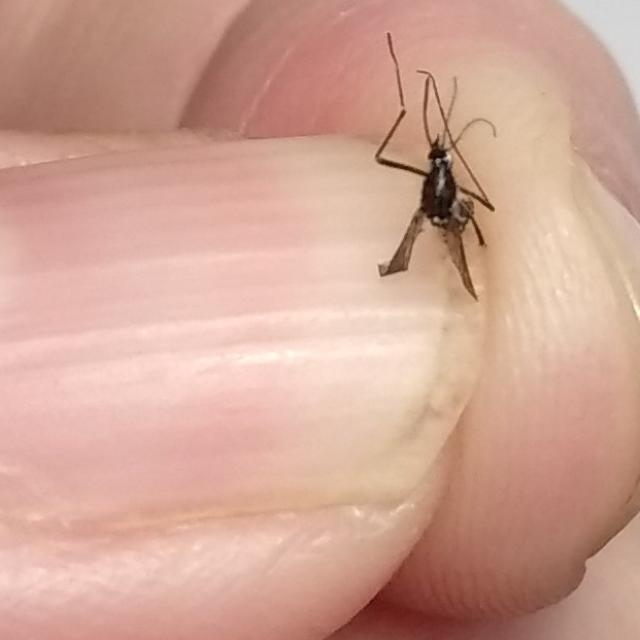albopictus: (348, 31, 504, 309)
